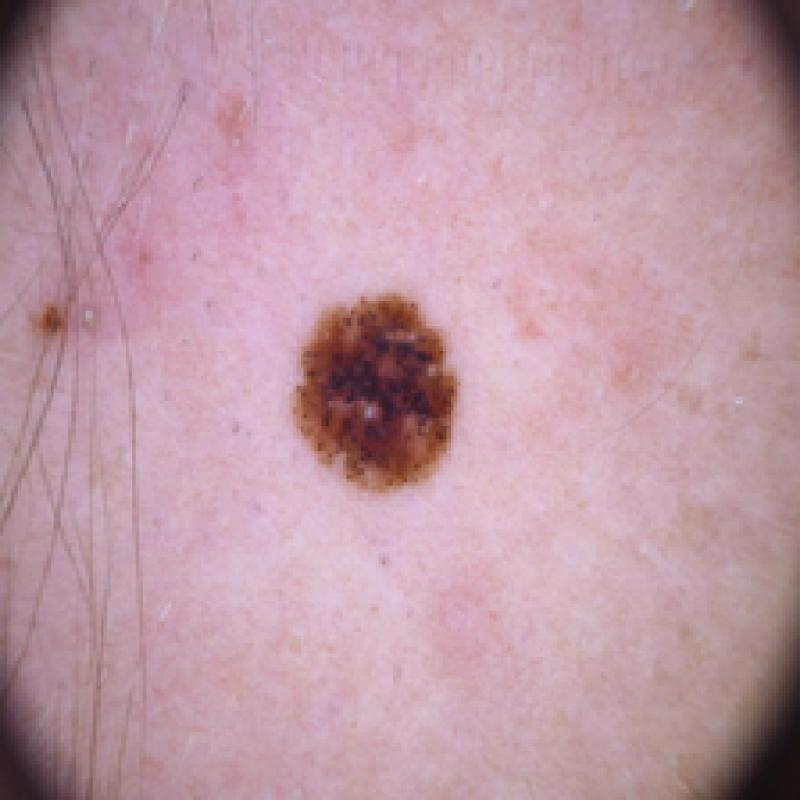benign: (278, 281, 474, 501)
